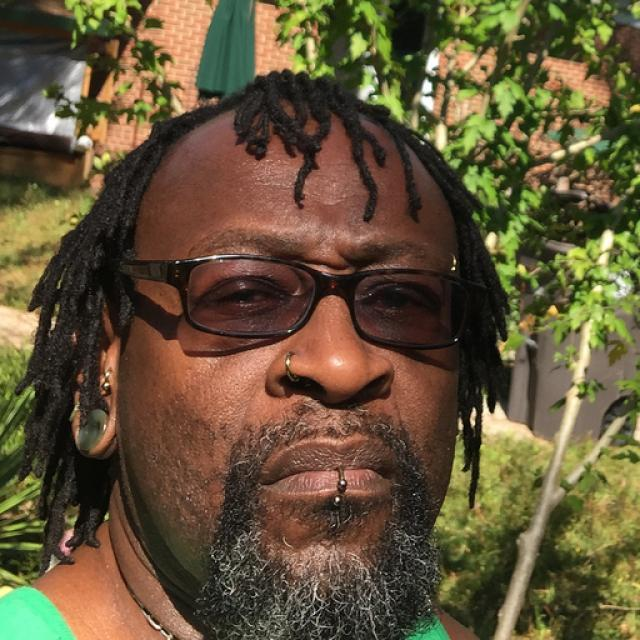anger: (115, 148, 461, 582)
